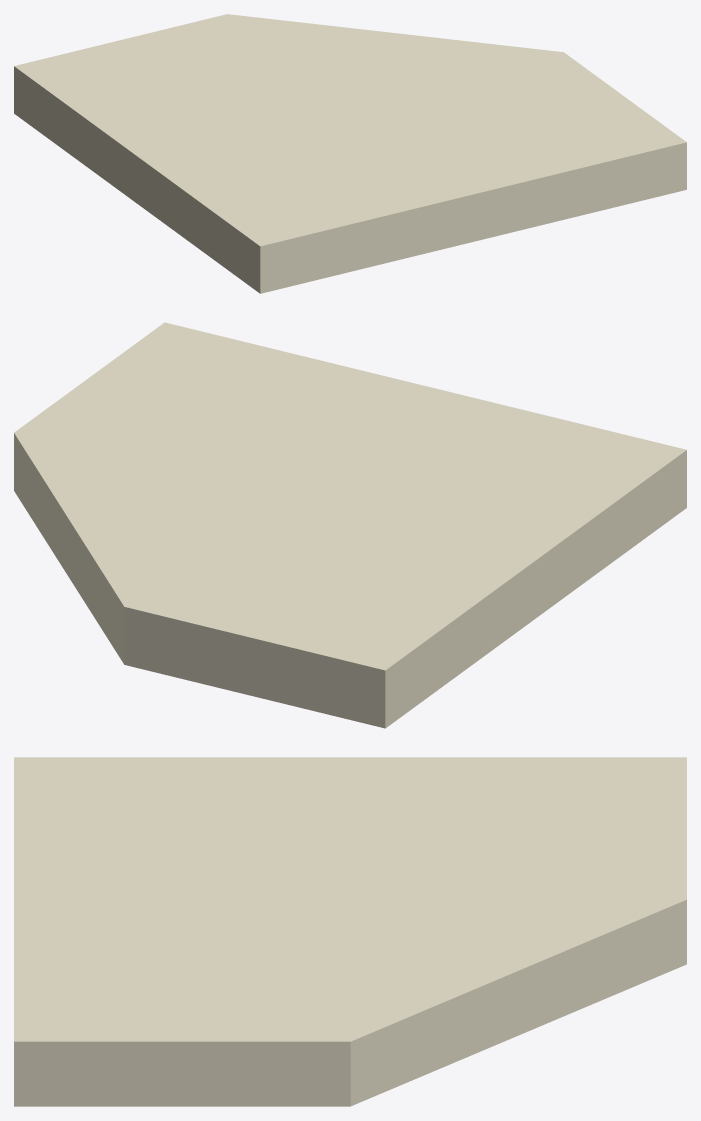
The model's file is building_016.fbx.
The picture shows the model from 3 angles, top to bottom: view 1: azimuth 30°, elevation 25°; view 2: azimuth 150°, elevation 25°; view 3: azimuth 270°, elevation 25°; orthographic projection. The views are drawn at different scales.
Visible parts, largest first — view 1: building_016; view 2: building_016; view 3: building_016.
Boxes of the visible parts, x1=… form: building_016: x1=14, y1=14, x2=686, y2=293; building_016: x1=14, y1=322, x2=686, y2=728; building_016: x1=14, y1=757, x2=686, y2=1106.
Bounding box in the file's own units: 10 × 1.06 × 10.
